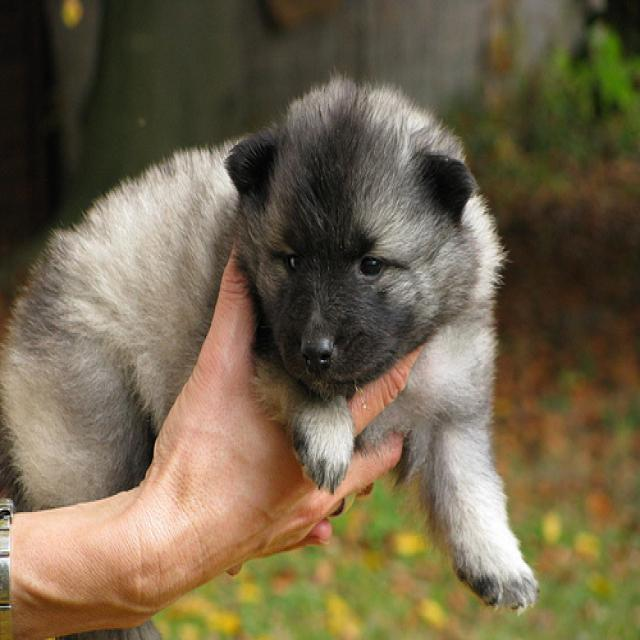dog-keeshond: (1, 60, 547, 625)
